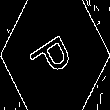P_NE: (28, 27, 82, 83)
